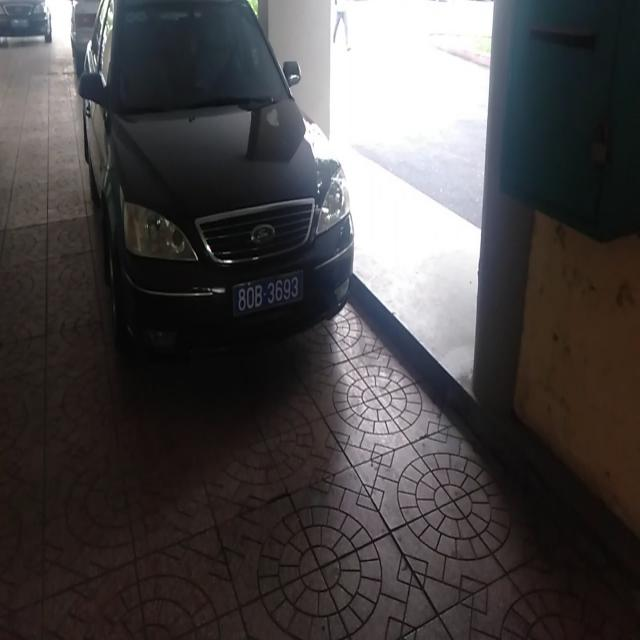bien_xanh: (234, 272, 303, 323)
